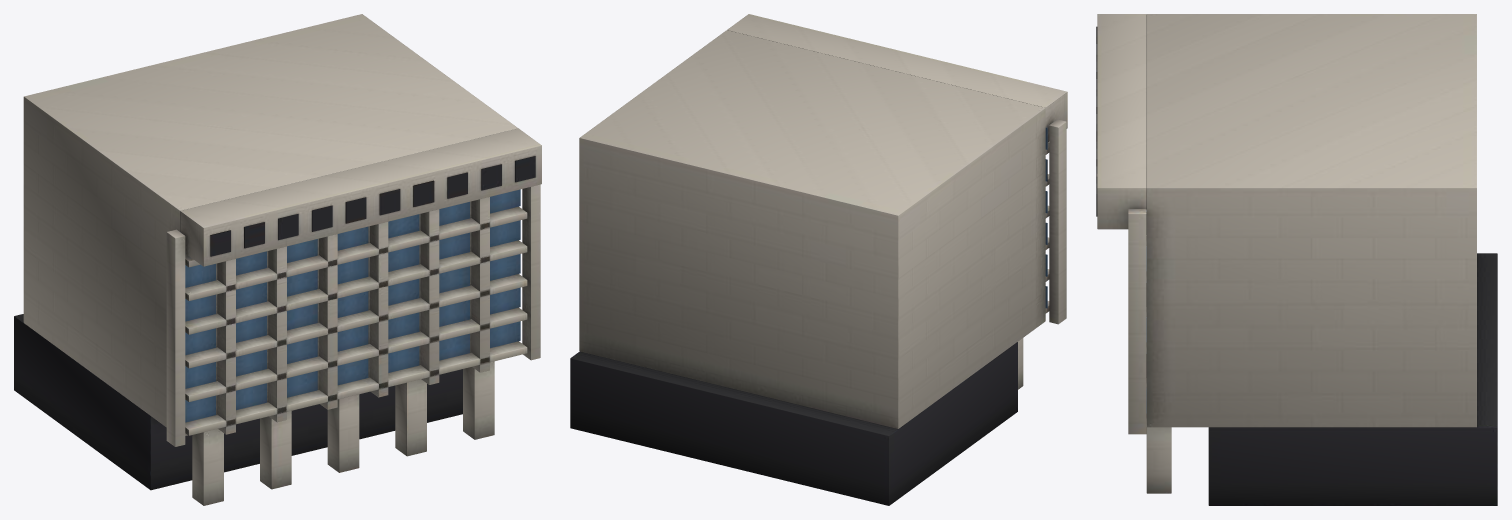
Rendered from fbi.glb.
3 views of the same model, side by side, from view 1: azimuth 30°, elevation 25°; view 2: azimuth 150°, elevation 25°; view 3: azimuth 270°, elevation 25° (orthographic). The views are drawn at different scales.
Visible parts, largest first — view 1: fbi; view 2: fbi; view 3: fbi.
Part boxes in pixels (<box>): fbi: <box>14,14,541,505</box>; fbi: <box>570,14,1067,505</box>; fbi: <box>1096,14,1497,505</box>.
Size of the model in its own units: 21.6 by 17 by 19.44.
Materials: 1 (1 with a texture image).
